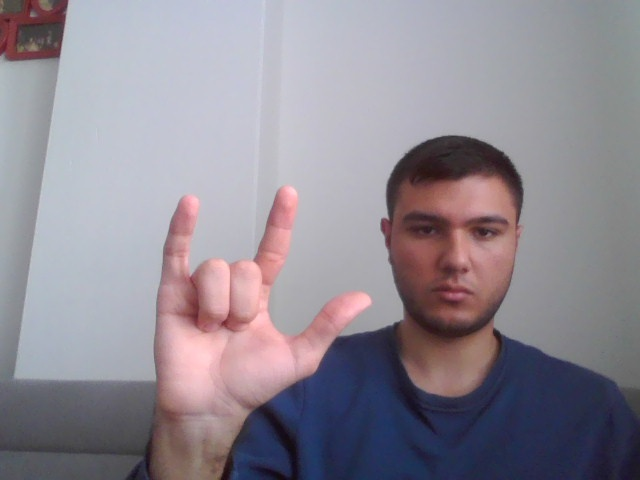ı love you: (153, 191, 374, 413)
